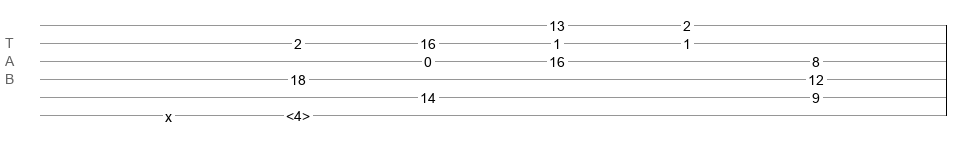0: (424, 54, 432, 64)
1: (553, 36, 561, 46), (683, 36, 691, 46)
12: (808, 72, 824, 82)
13: (549, 18, 565, 28)
14: (420, 90, 436, 100)
16: (420, 36, 436, 46), (549, 54, 565, 64)
18: (290, 72, 306, 82)
2: (294, 36, 302, 46), (683, 18, 691, 28)
8: (812, 54, 820, 64)
9: (812, 90, 820, 100)
harmonic: (286, 108, 310, 118)
x: (165, 109, 172, 117)
